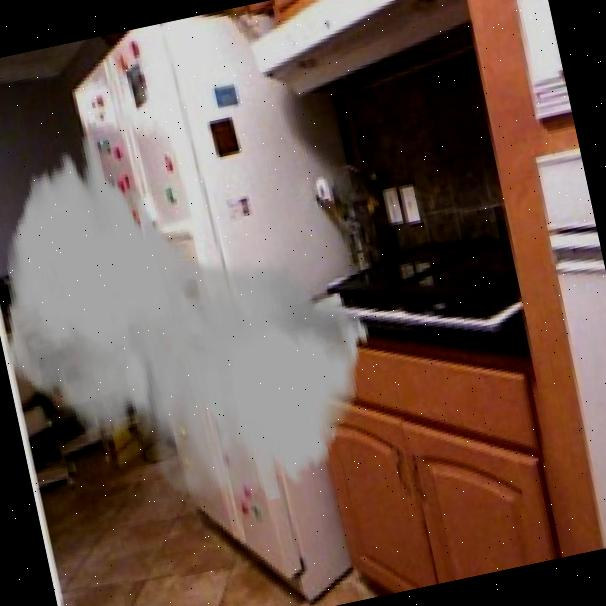smoke: (0, 87, 402, 551)
